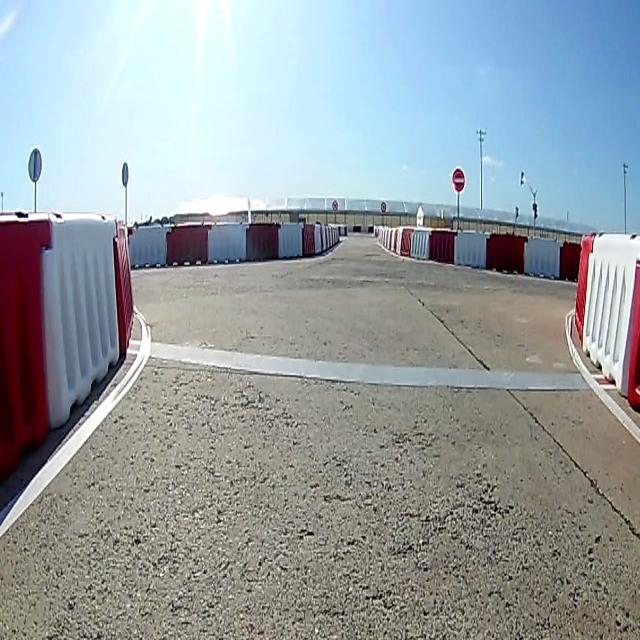girisyok: (450, 165, 466, 198)
